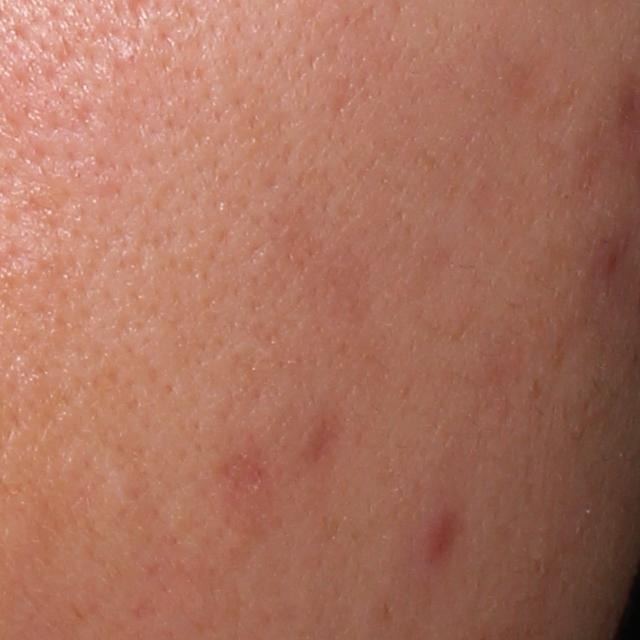papule: (415, 506, 462, 567)
